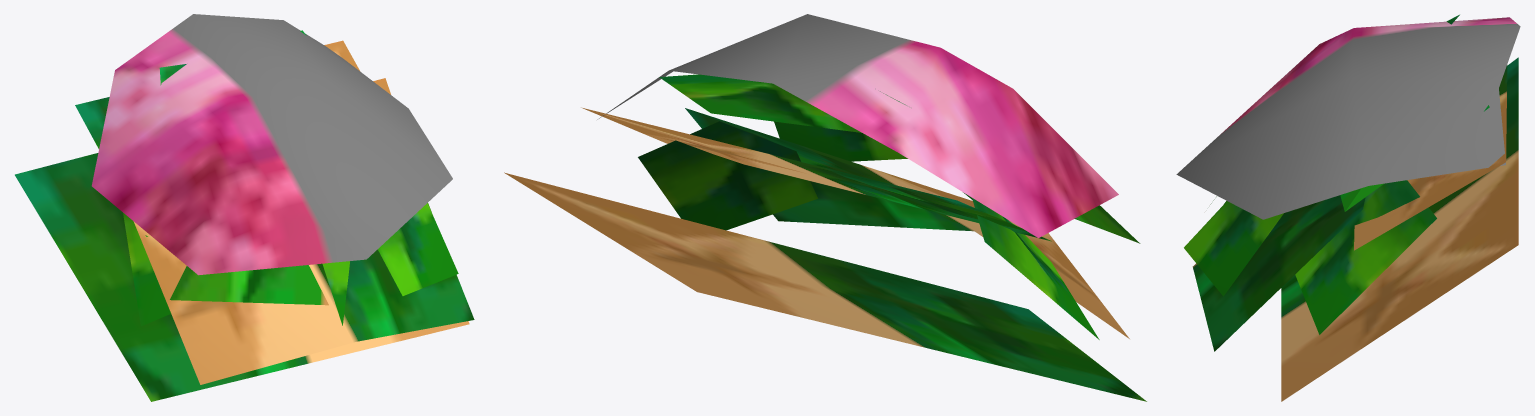
The model's file is fg_bushE_2_s.dae.
The picture shows the model from 3 angles, left to right: view 1: azimuth 30°, elevation 25°; view 2: azimuth 150°, elevation 25°; view 3: azimuth 270°, elevation 25°; orthographic projection. The views are drawn at different scales.
Parts seen in each view (by area): view 1: fg_bushE_2_s; view 2: fg_bushE_2_s; view 3: fg_bushE_2_s.
Part boxes in pixels (x1,y1,x2,y2): fg_bushE_2_s: (15,14,474,401); fg_bushE_2_s: (504,14,1146,401); fg_bushE_2_s: (1176,14,1520,401).
Size of the model in its own units: 50.84 by 35.23 by 38.03.
1 material, 1 textured.
